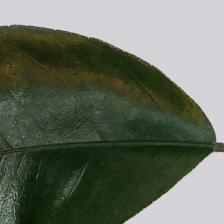healthy: (0, 33, 172, 224)
